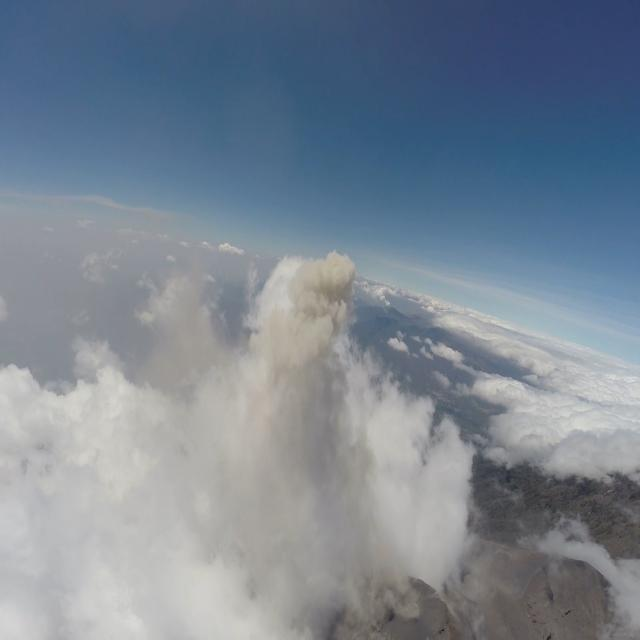Plume: (266, 248, 356, 372)
Summit: (318, 567, 502, 637)
